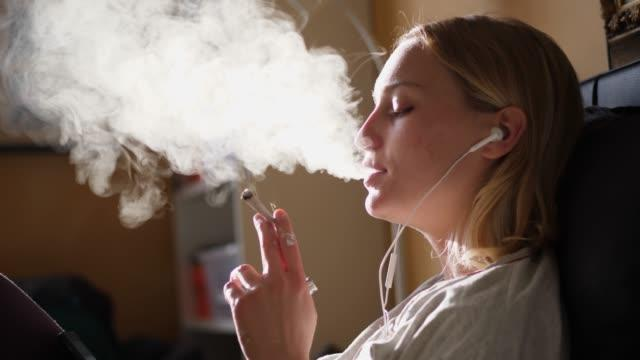smoker: (174, 7, 572, 329)
